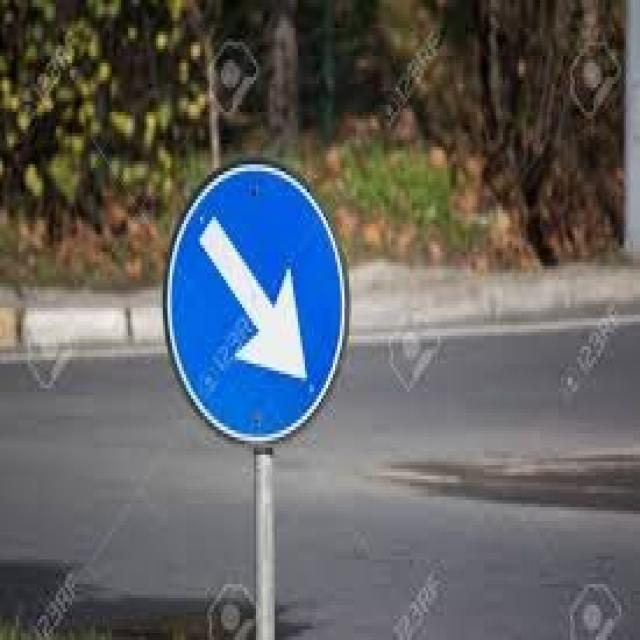compulsory_keep_right: (156, 154, 349, 454)
